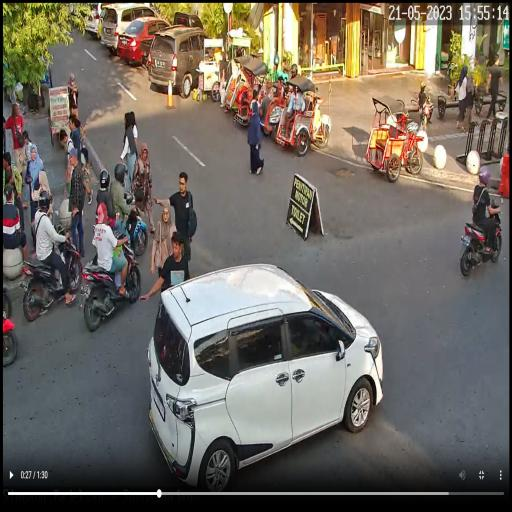mobil: (149, 262, 384, 492), (152, 26, 208, 94), (102, 0, 160, 59), (119, 14, 170, 63)
motor: (82, 238, 141, 337), (18, 236, 84, 317), (459, 190, 503, 283), (90, 199, 147, 254)
